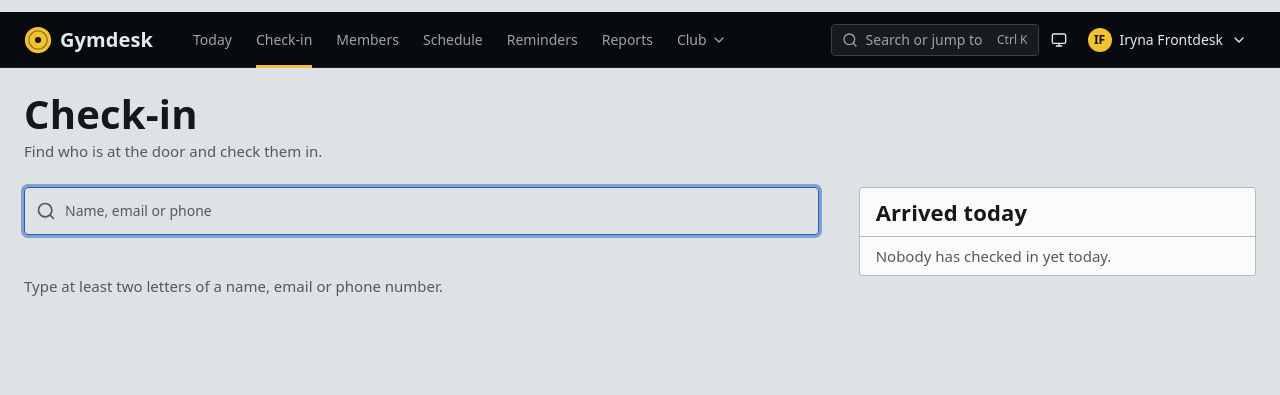
finding members › says when nobody matches and points to the members page
The width and height of the screenshot is (1280, 395).
Expected: the heading "Check-in" is shown, [24, 86, 198, 141]
In the search field named "Find a member": (421, 210) [24, 186, 819, 234], type "zzz"
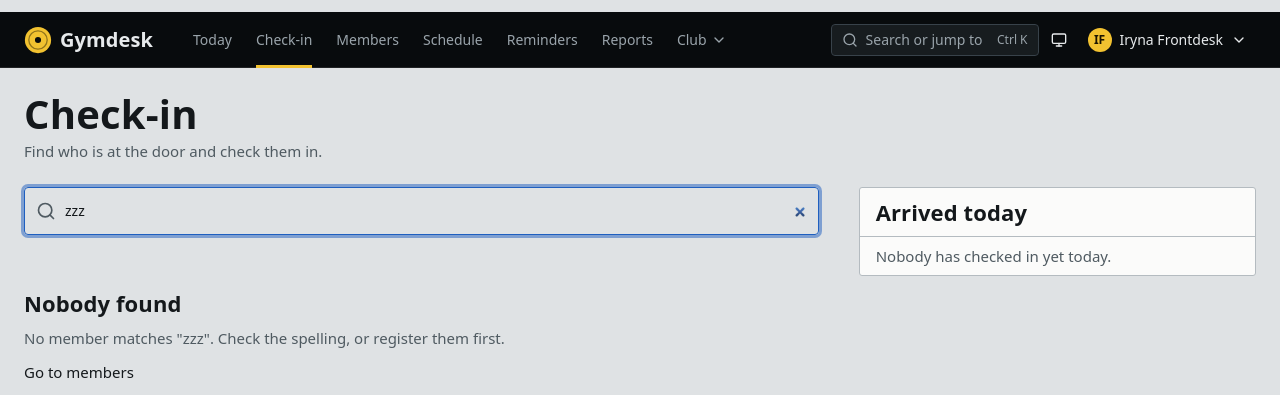
Expected: the heading "Nobody found" is shown, [24, 290, 182, 315]
